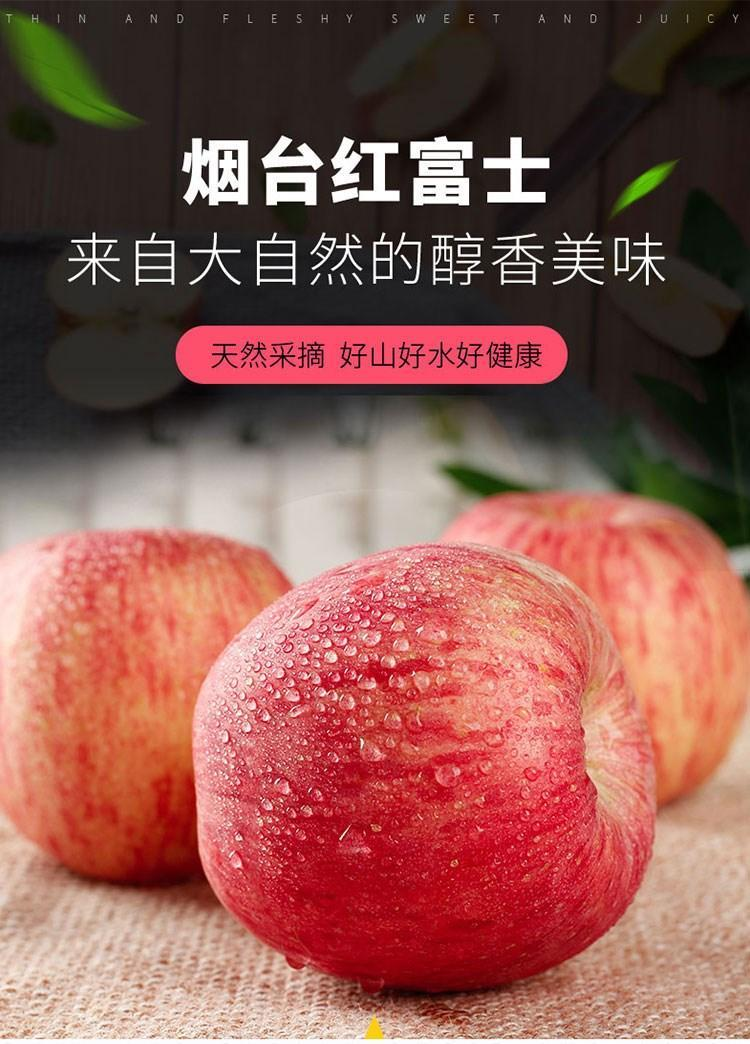apple: (196, 548, 666, 993), (1, 526, 294, 888), (442, 496, 750, 797)
